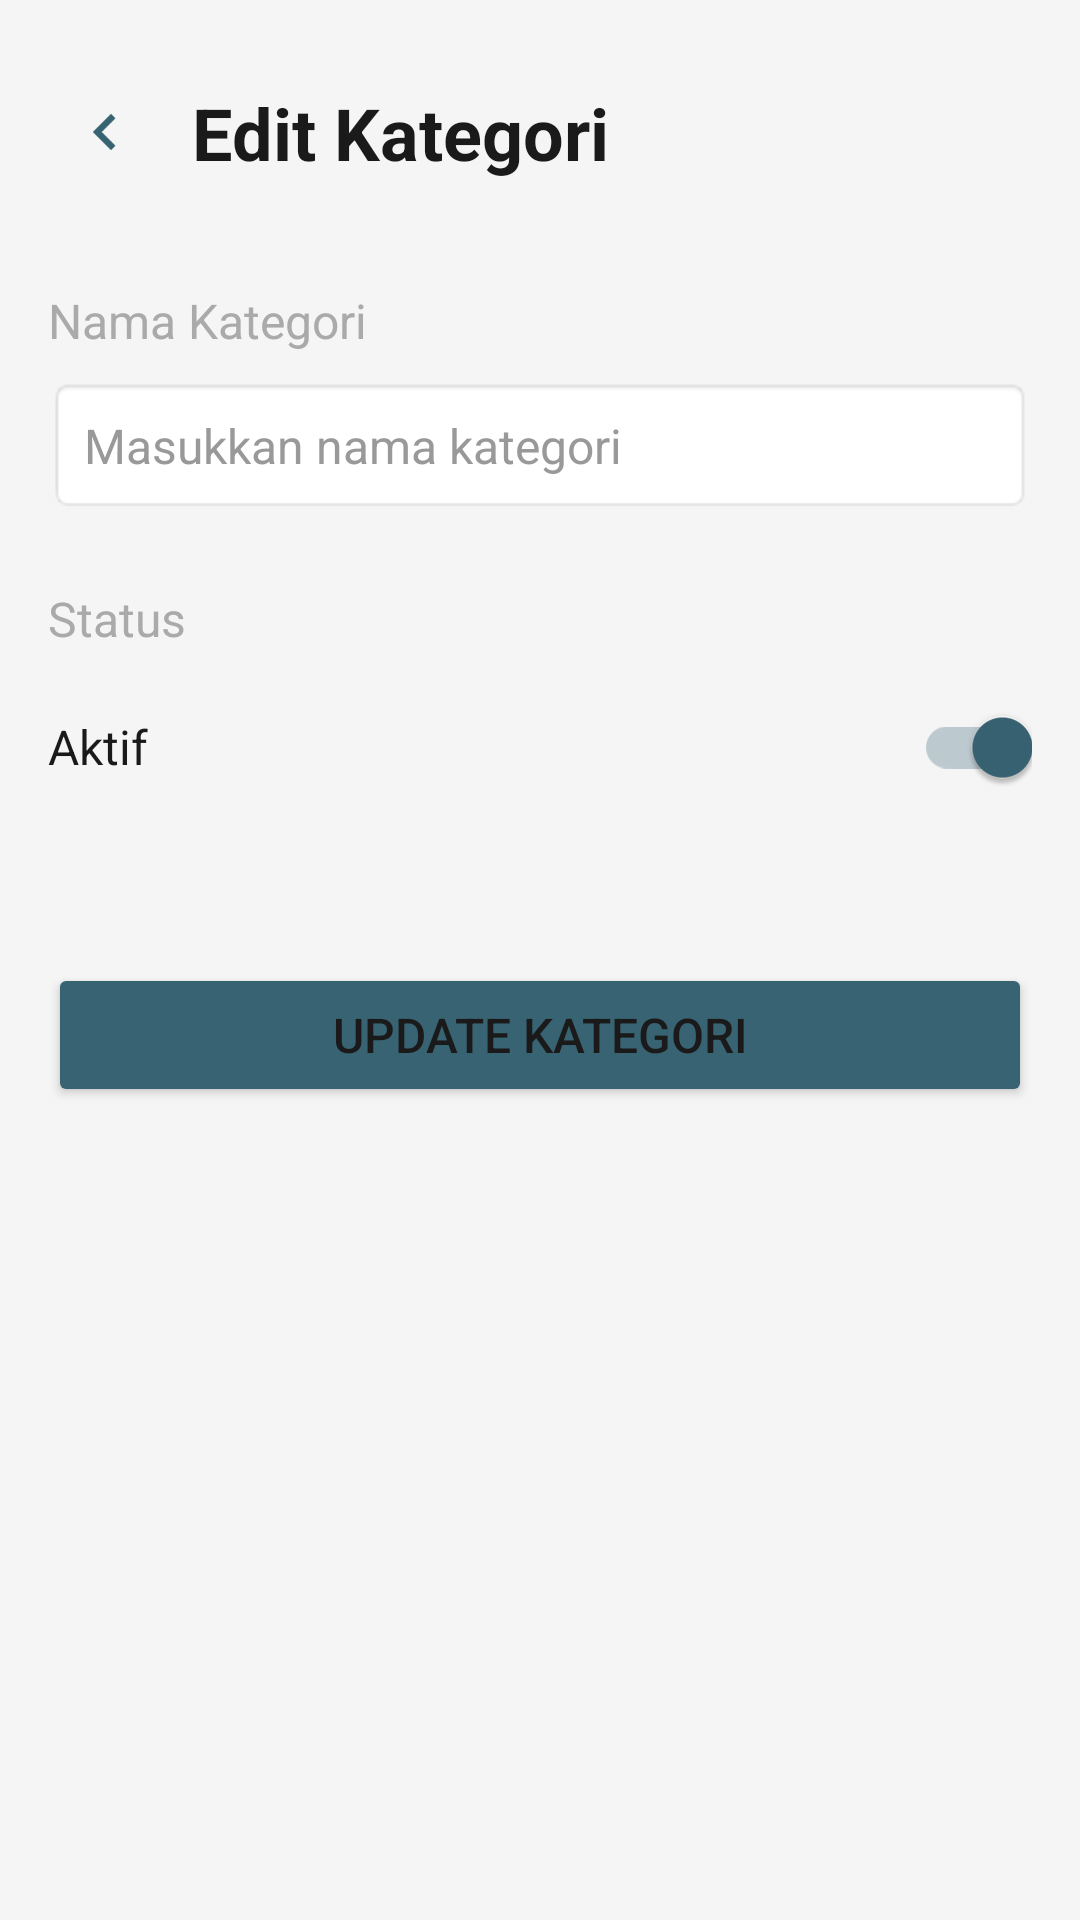

Where icons sit on this 1080w x 1920h app screen, as (x1, y1, x2, y2):
Kembali: (93, 114, 116, 150)
